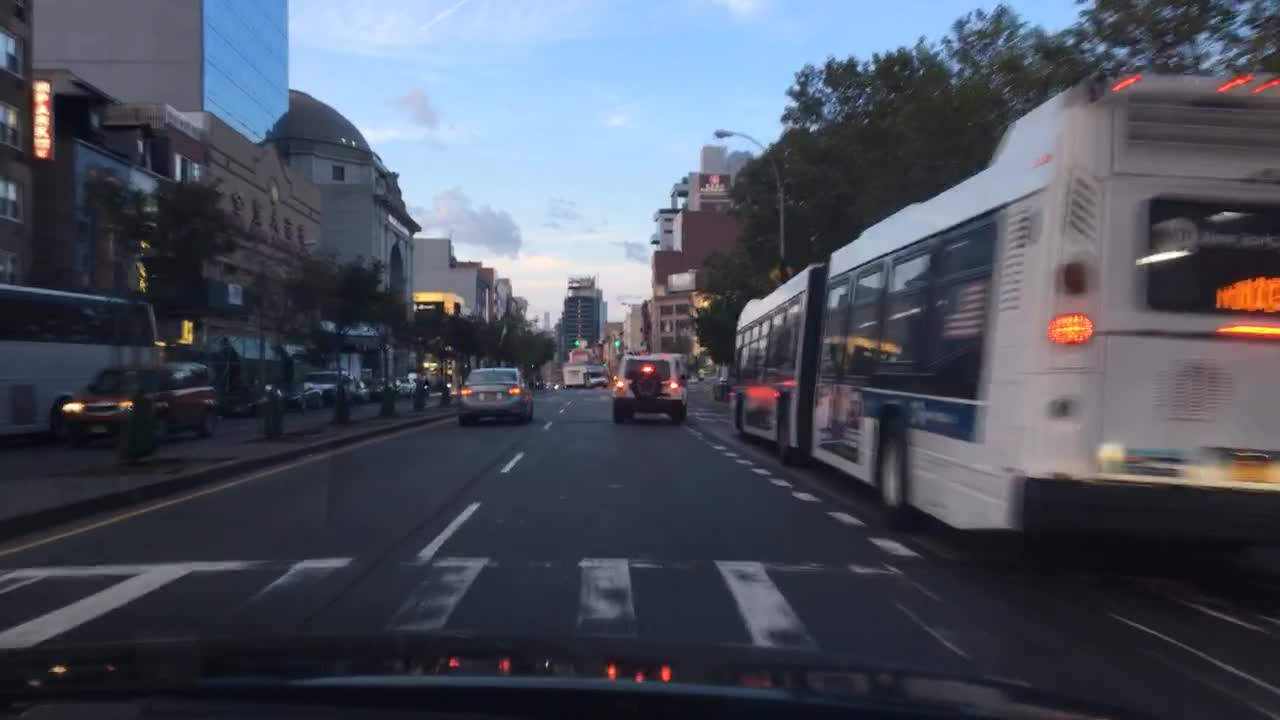bus: (731, 66, 1279, 551), (0, 281, 161, 438)
car: (53, 358, 222, 446), (611, 354, 686, 422), (456, 366, 535, 428), (223, 378, 290, 417), (302, 366, 361, 409), (281, 378, 325, 412), (368, 374, 399, 404), (656, 354, 689, 380), (713, 364, 732, 403), (391, 373, 419, 398), (356, 377, 374, 405), (543, 381, 563, 392), (687, 374, 700, 386)
traffic light: (570, 337, 582, 350), (611, 339, 624, 350)
truck: (561, 364, 608, 389)
